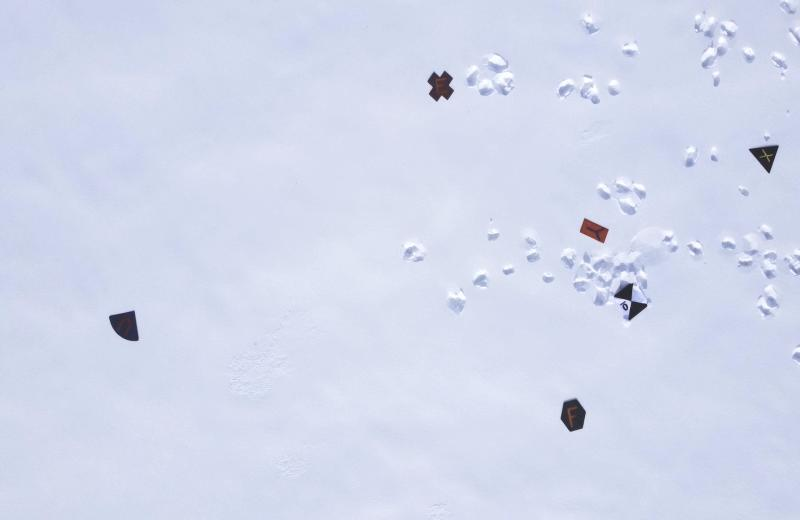Cross: (427, 68, 454, 102)
Hexagon: (559, 397, 588, 433)
Quarter Circle: (109, 310, 140, 345)
Rectangle: (580, 217, 610, 246)
Triangle: (748, 142, 782, 175)
